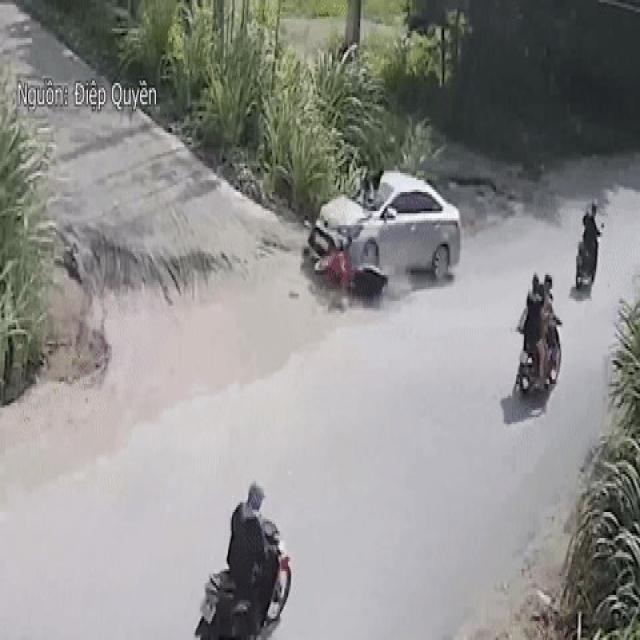multiple_accident: (295, 159, 464, 306)
normal: (169, 464, 314, 637), (504, 183, 607, 410)
